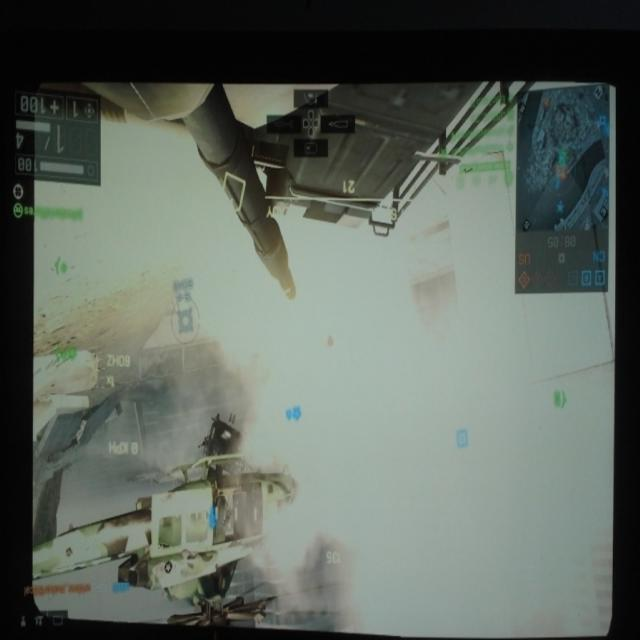Missile: (177, 75, 296, 308)
